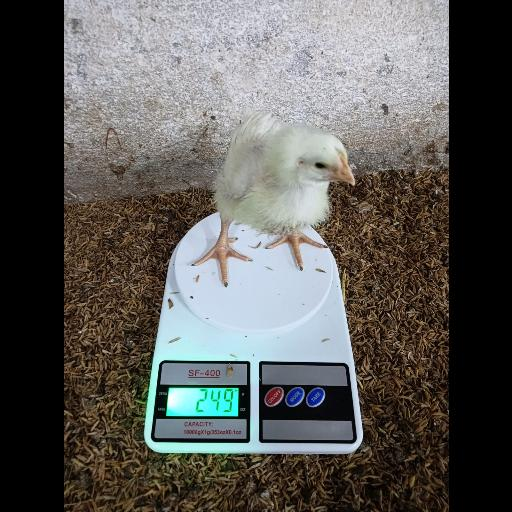chick: (190, 109, 354, 286)
